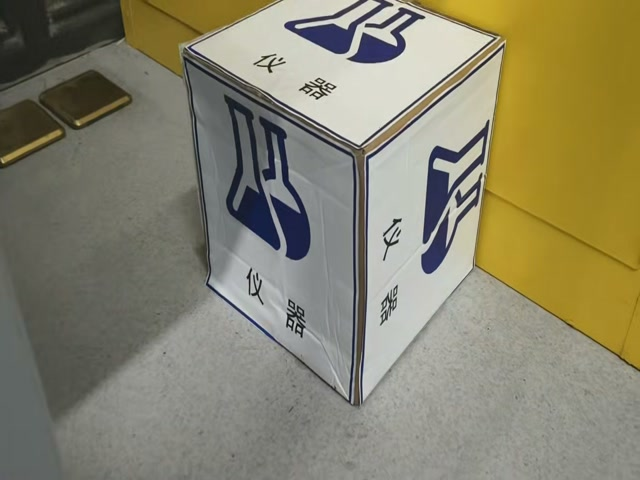Cube_ins: (173, 5, 498, 159)
